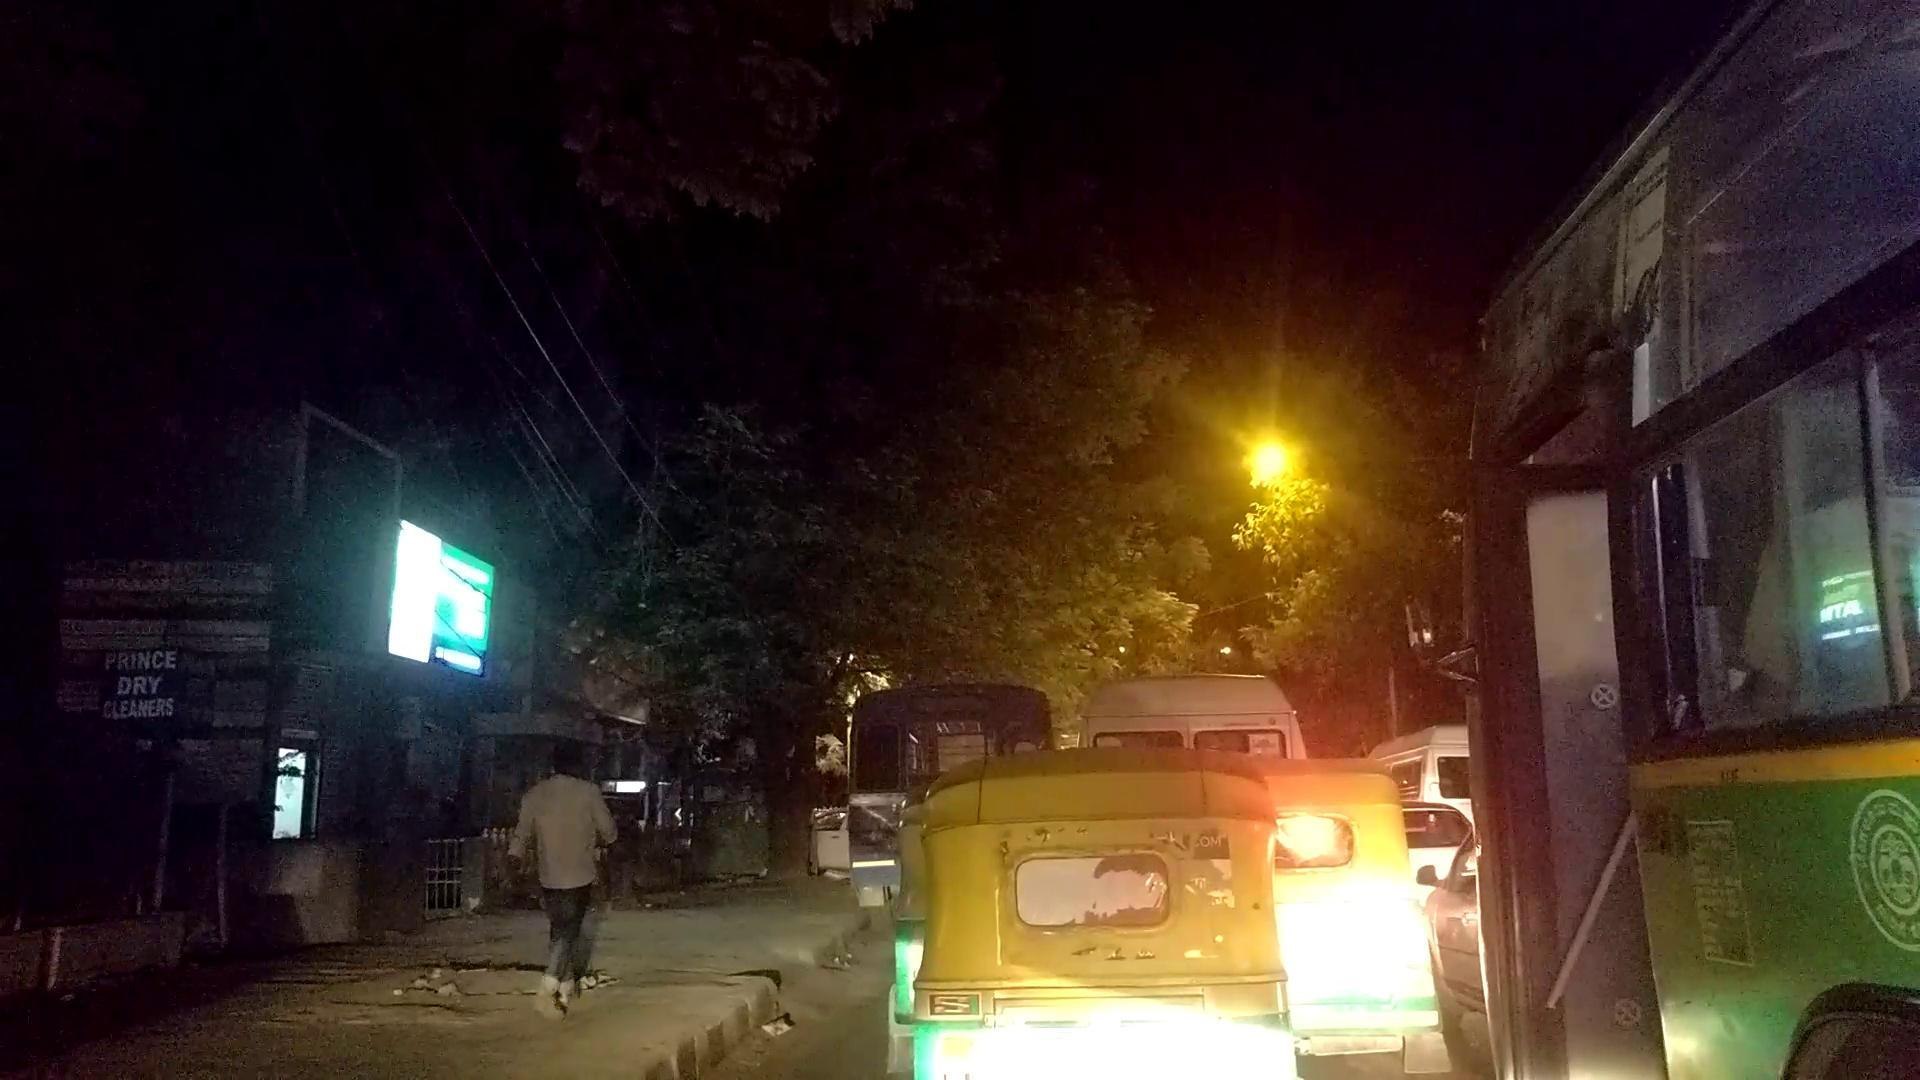on: (90, 22, 1920, 1080)
